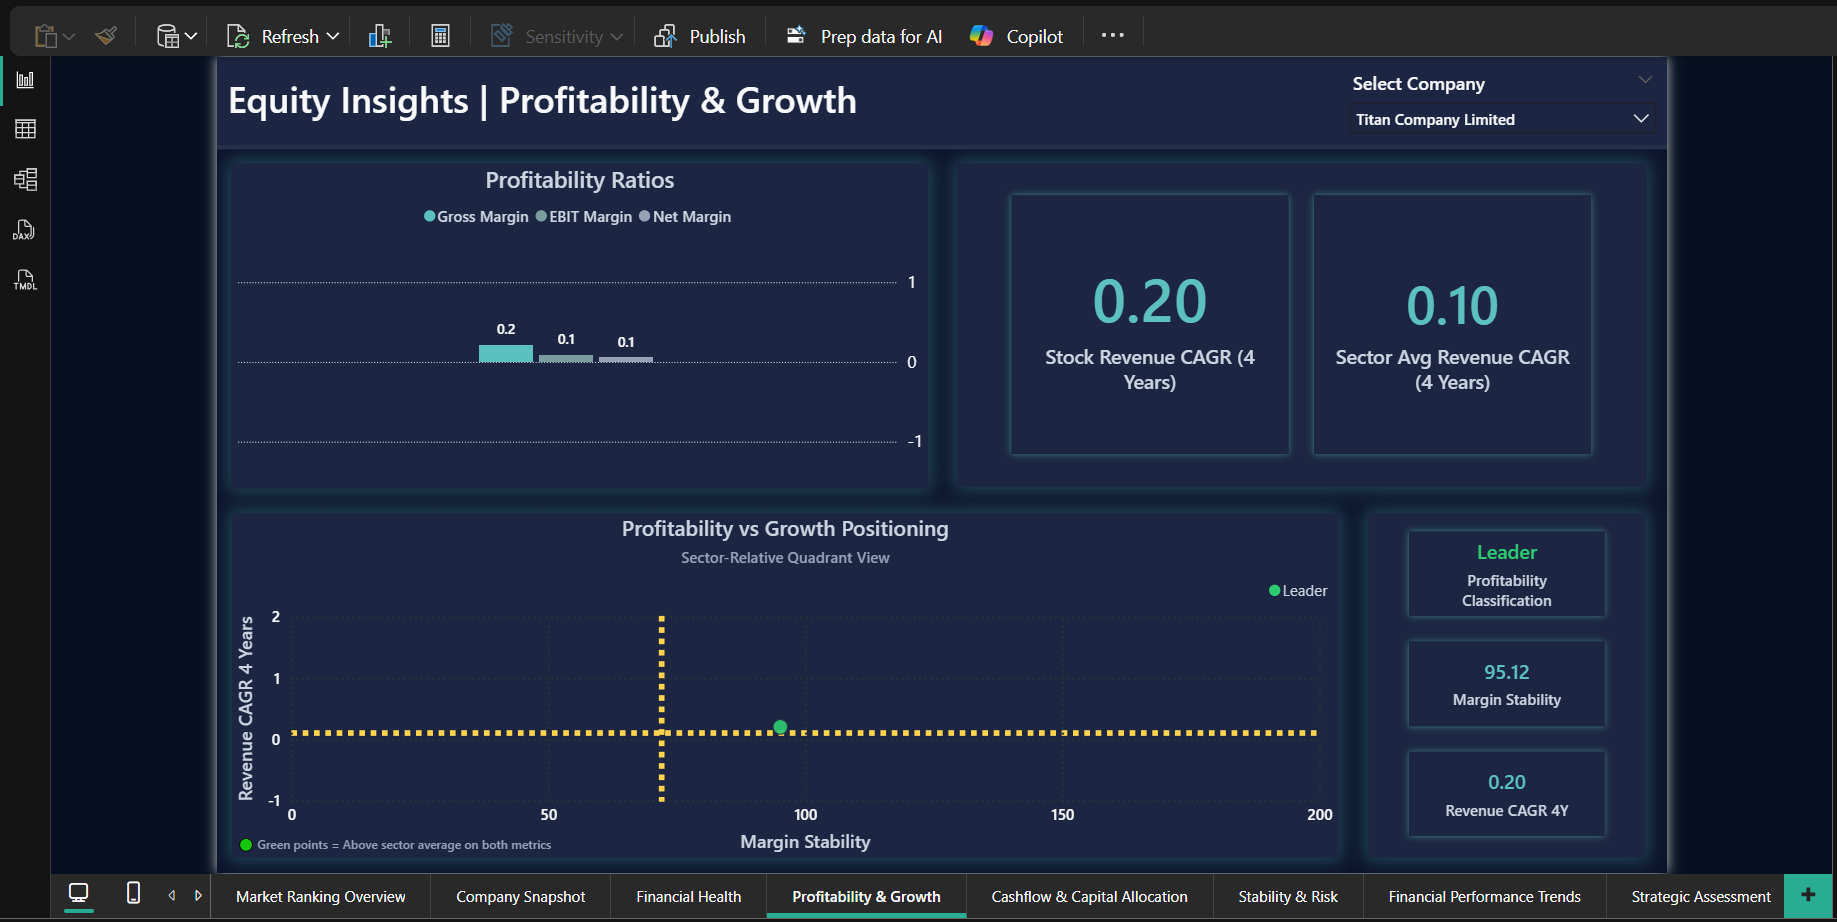

Layout of this report page (visuals, bound fields, positions):
{"tool":"powerbi","page":{"name":"Profitability & Growth","canvas":[1280,720],"ordinal":3},"visuals":[{"type":"shape","box":[0,0,1280,80],"z":0,"group":"g1"},{"type":"clusteredColumnChart","title":"Profitability Ratios","fields":{"Y":["Max(gold_equity_derivedmetrics.gross_margin)","Max(gold_equity_derivedmetrics.ebit_margin)","Max(gold_equity_derivedmetrics.net_margin)"]},"box":[11.9,93.6,616.3,286.8],"z":0},{"type":"textbox","box":[4.3,0,580,80],"z":1000,"group":"g1"},{"type":"cardVisual","fields":{"Data":["Max(gold_equity_derivedmetrics.revenue_cagr_4y)","Max(vw_sector_averages.avg_revenue_cagr)"]},"box":[652.9,94.3,608.6,285.7],"z":1000},{"type":"slicer","fields":{"Values":["gold_equity_basemetrics.company_name"]},"box":[990,0,290,80],"z":2000,"group":"g1"},{"type":"scatterChart","title":"Profitability vs Growth Positioning","fields":{"X":["Max(gold_equity_derivedmetrics.margin_stability)"],"Y":["Max(gold_equity_derivedmetrics.revenue_cagr_4y)"],"Category":["gold_equity_derivedmetrics.symbol"],"Series":["gold_equity_derivedmetrics.Quadrant Classification (Column)"]},"box":[12.9,402.9,977.1,304.3],"z":3000,"group":"g2"},{"type":"group","id":"g1","title":"Group 1","box":[0,0,1280,93.3],"z":4000},{"type":"shape","box":[0,66.7,1280,26.7],"z":4000,"group":"g1"},{"type":"cardVisual","fields":{"Data":["Min(gold_equity_derivedmetrics.Quadrant Classification (Column))","Max(gold_equity_derivedmetrics.margin_stability)","Max(gold_equity_derivedmetrics.revenue_cagr_4y)"]},"box":[1016.2,402.5,245,303.8],"z":5000},{"type":"textbox","box":[12.9,679.6,363.6,27.6],"z":5500,"group":"g2"},{"type":"group","id":"g2","title":"Group 2","box":[12.9,402.9,977.1,304.3],"z":5501}]}

Visuals, with their boxes on the page's 1280x720 design canvas (x1, y1, x2, y2). These are canvas units, not pixel positions in the 1837x922 screenshot, which may show the page scaled, cropped or inside an application window:
shape: (0, 0, 1280, 80)
"Profitability Ratios" clusteredColumnChart: (12, 94, 628, 380)
textbox: (4, 0, 584, 80)
cardVisual - Max(gold_equity_derivedmetrics.revenue_cagr_4y) x Max(vw_sector_averages.avg_revenue_cagr): (653, 94, 1262, 380)
slicer - gold_equity_basemetrics.company_name: (990, 0, 1280, 80)
"Profitability vs Growth Positioning" scatterChart: (13, 403, 990, 707)
"Group 1" group: (0, 0, 1280, 93)
shape: (0, 67, 1280, 93)
cardVisual - Min(gold_equity_derivedmetrics.Quadrant Classification (Column)) x Max(gold_equity_derivedmetrics.margin_stability): (1016, 402, 1261, 706)
textbox: (13, 680, 376, 707)
"Group 2" group: (13, 403, 990, 707)
